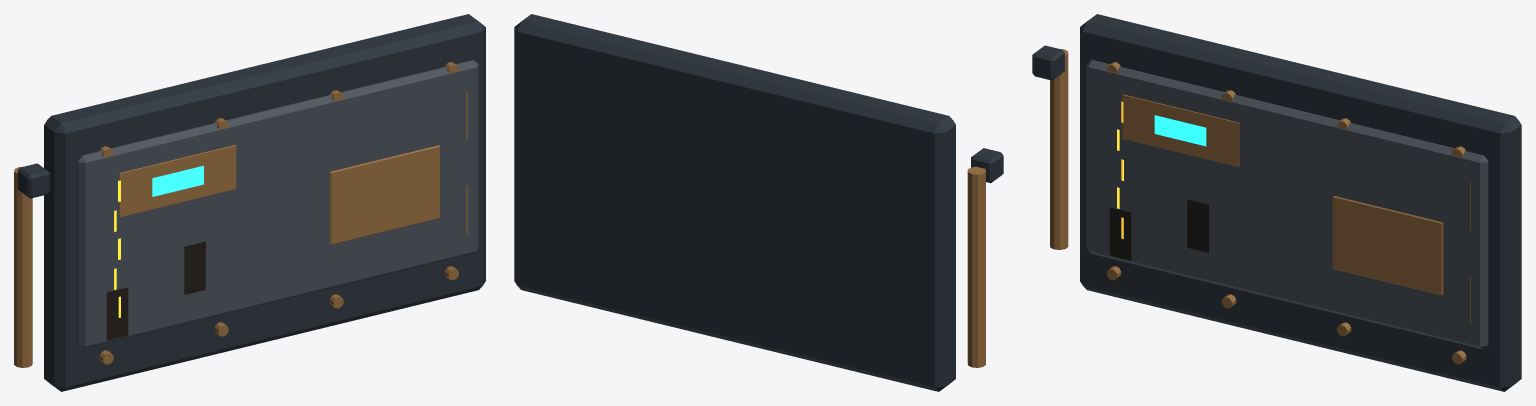
The model's file is runtime.glb.
3 renders of one model, left to right at view 1: azimuth 30°, elevation 25°; view 2: azimuth 150°, elevation 25°; view 3: azimuth 330°, elevation 25°, orthographic.
Parts seen in each view (by area): view 1: kinetic-tide-maintenance-panel-v06_plate_nocol, kinetic-tide-maintenance-panel-v06_steel_nocol, kinetic-tide-maintenance-panel-v06_bronze_nocol, kinetic-tide-maintenance-panel-v06_weardark_nocol, kinetic-tide-maintenance-panel-v06_cyansignal_nocol; view 2: kinetic-tide-maintenance-panel-v06_steel_nocol, kinetic-tide-maintenance-panel-v06_bronze_nocol; view 3: kinetic-tide-maintenance-panel-v06_plate_nocol, kinetic-tide-maintenance-panel-v06_steel_nocol, kinetic-tide-maintenance-panel-v06_bronze_nocol, kinetic-tide-maintenance-panel-v06_weardark_nocol, kinetic-tide-maintenance-panel-v06_cyansignal_nocol.
Boxes of the visible parts, x1,y1,x2,y2 form: kinetic-tide-maintenance-panel-v06_plate_nocol: (77,60,478,349); kinetic-tide-maintenance-panel-v06_steel_nocol: (17,14,485,391); kinetic-tide-maintenance-panel-v06_bronze_nocol: (14,62,467,367); kinetic-tide-maintenance-panel-v06_weardark_nocol: (106,241,205,340); kinetic-tide-maintenance-panel-v06_cyansignal_nocol: (152,165,203,196); kinetic-tide-maintenance-panel-v06_steel_nocol: (514,14,1003,391); kinetic-tide-maintenance-panel-v06_bronze_nocol: (967,166,985,367); kinetic-tide-maintenance-panel-v06_plate_nocol: (1086,60,1488,349); kinetic-tide-maintenance-panel-v06_steel_nocol: (1032,14,1521,391); kinetic-tide-maintenance-panel-v06_bronze_nocol: (1050,49,1470,364); kinetic-tide-maintenance-panel-v06_weardark_nocol: (1109,199,1208,260); kinetic-tide-maintenance-panel-v06_cyansignal_nocol: (1154,115,1206,146).
Size of the model in its own units: 5.04 by 2.76 by 0.4874.
